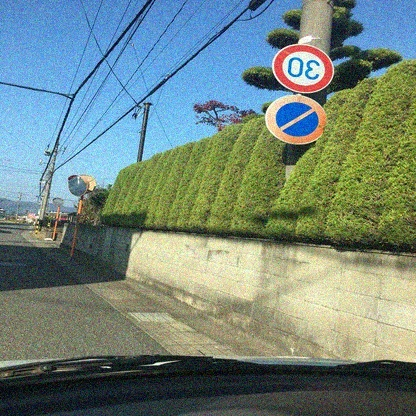Prohibition_sign: (261, 90, 333, 148)
Speed_sign: (269, 37, 341, 95)
